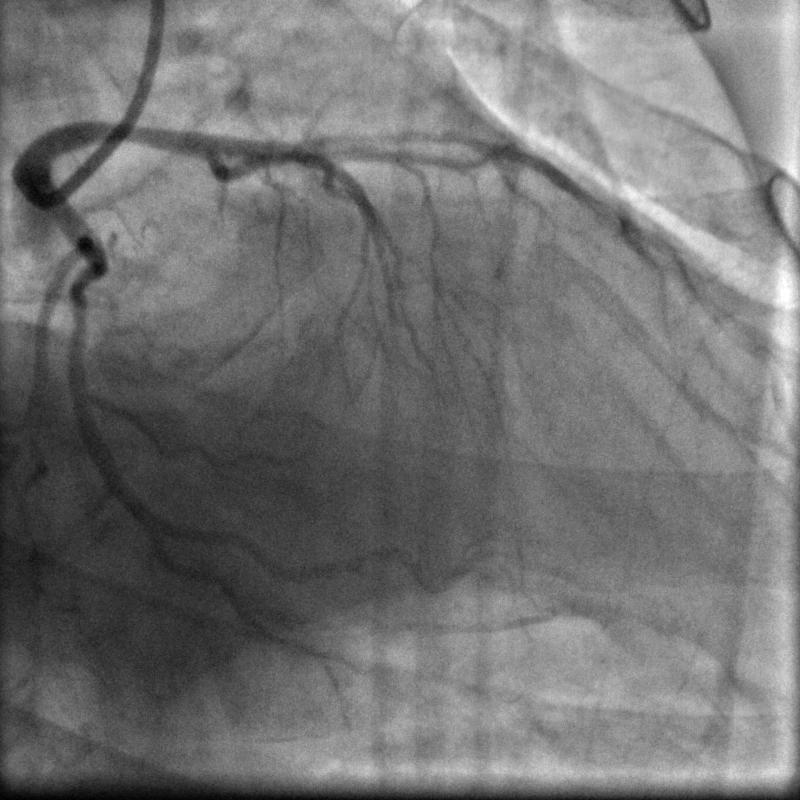Stenosis: (72, 255, 105, 318)
